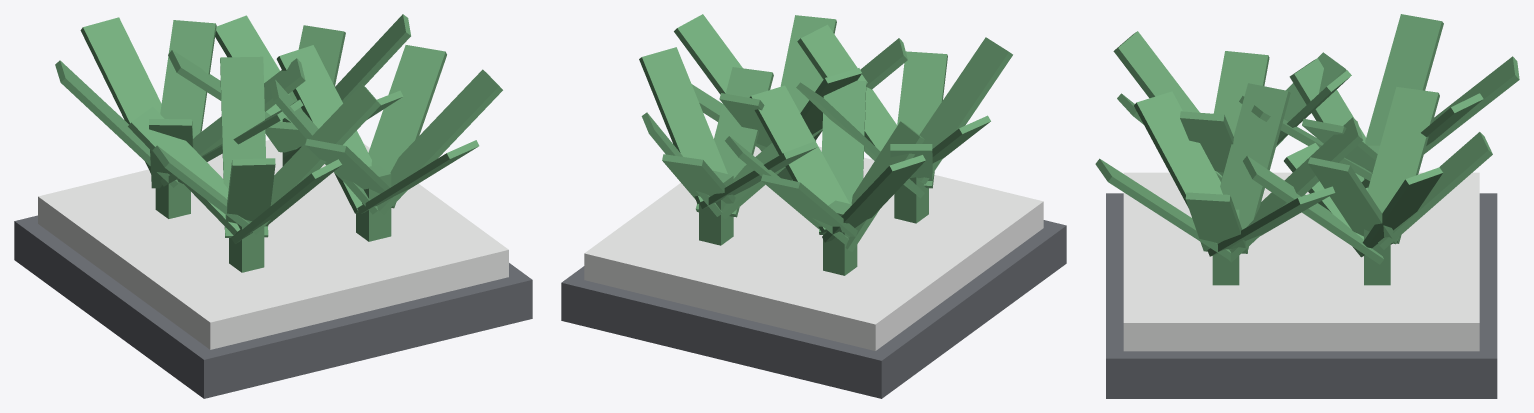
Rendered from vertical-farm-and-hydroponics-tower-vertical-farm-and--89a178a3__38354.glb.
The picture shows the model from 3 angles, left to right: view 1: azimuth 30°, elevation 25°; view 2: azimuth 150°, elevation 25°; view 3: azimuth 270°, elevation 25°; orthographic projection. The views are drawn at different scales.
Parts seen in each view (by area): view 1: vertical-farm-and-hydroponics-tower-leafy-crop-cluster-kale_ (×3); view 2: vertical-farm-and-hydroponics-tower-leafy-crop-cluster-kale_ (×3); view 3: vertical-farm-and-hydroponics-tower-leafy-crop-cluster-kale_ (×3).
Boxes of the visible parts, x1,y1,x2,y2 form: vertical-farm-and-hydroponics-tower-leafy-crop-cluster-kale_ (×3): [14, 14, 532, 398]; vertical-farm-and-hydroponics-tower-leafy-crop-cluster-kale_ (×3): [561, 14, 1066, 398]; vertical-farm-and-hydroponics-tower-leafy-crop-cluster-kale_ (×3): [1095, 14, 1519, 398].
Bounding box in the file's own units: 0.4594 × 0.2861 × 0.4772.
